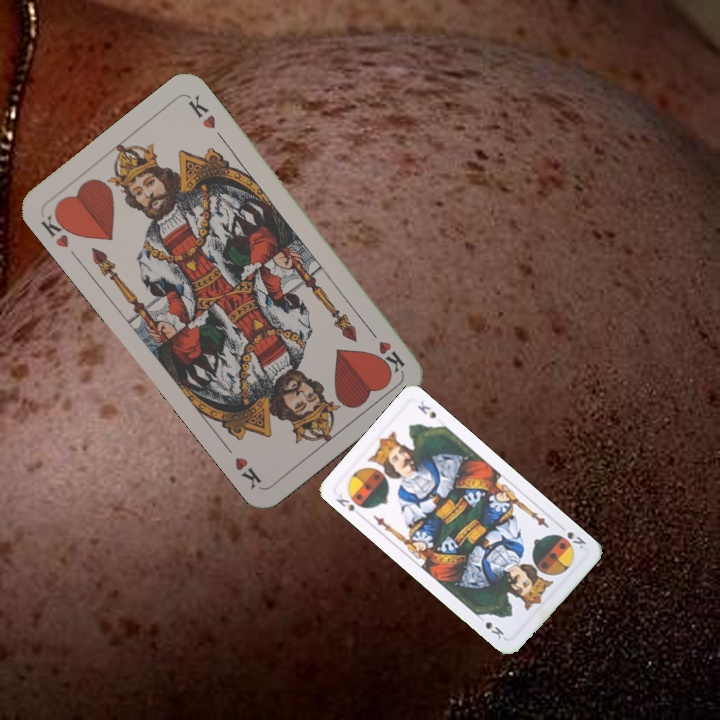HK: (363, 323, 407, 376), (36, 205, 78, 250)
SK: (555, 520, 589, 552), (332, 490, 368, 520)
